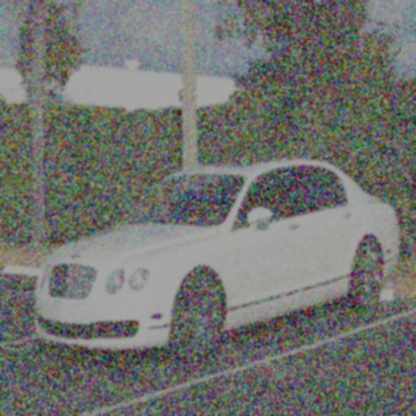Vehicle: (33, 155, 403, 369)
